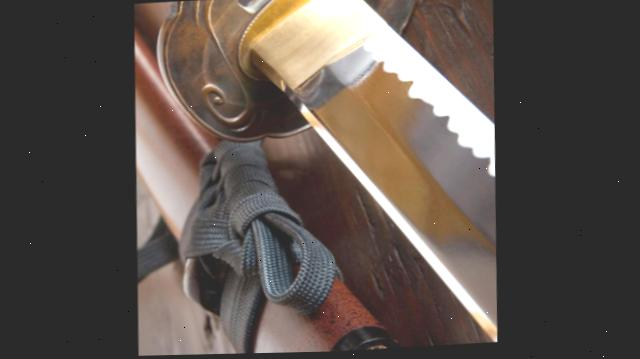long knife: (202, 0, 505, 355)
